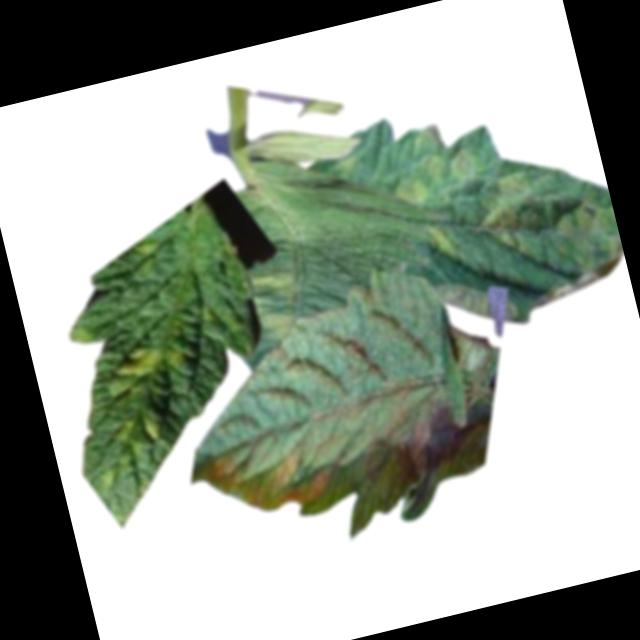Leaf_Mold: (471, 152, 620, 291), (196, 423, 343, 533), (383, 116, 487, 211), (245, 257, 318, 346), (100, 332, 188, 397), (106, 402, 166, 457), (420, 218, 463, 270)
